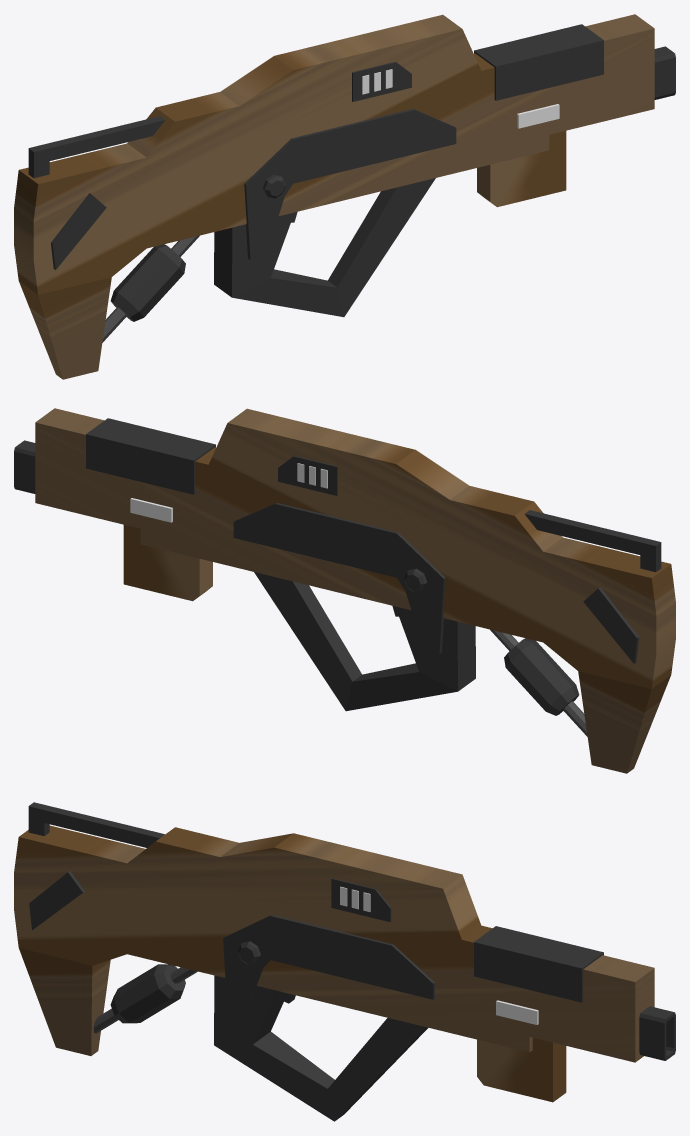
File: Rifle_C_V3.FBX
The picture shows the model from 3 angles, top to bottom: view 1: azimuth 30°, elevation 25°; view 2: azimuth 150°, elevation 25°; view 3: azimuth 330°, elevation 25°; orthographic projection.
Parts seen in each view (by area): view 1: Rifle_C_V3, Magazine; view 2: Rifle_C_V3, Magazine; view 3: Rifle_C_V3, Magazine.
Part boxes in pixels (<box>): Rifle_C_V3: <box>14,14,675,379</box>; Magazine: <box>477,131,566,207</box>; Rifle_C_V3: <box>14,408,675,773</box>; Magazine: <box>123,525,212,601</box>; Rifle_C_V3: <box>14,802,675,1121</box>; Magazine: <box>477,1038,566,1102</box>.
Bounding box in the file's own units: 394 × 154 × 31.92.
